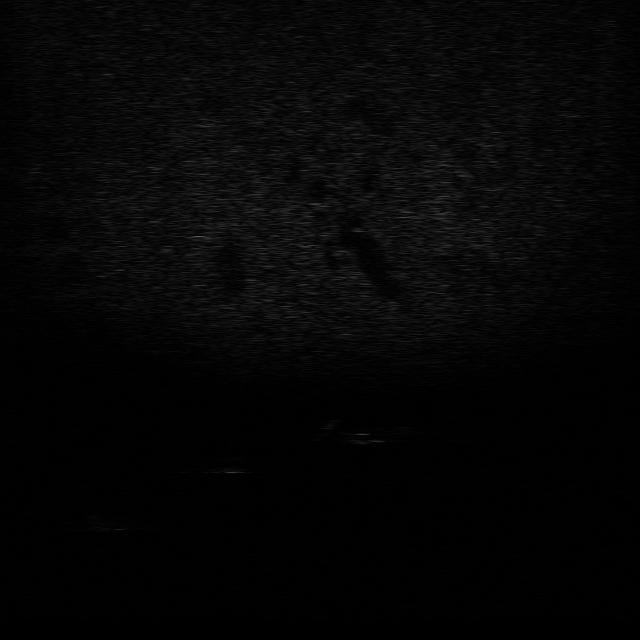ball: (200, 450, 252, 478)
circle cage: (56, 505, 135, 535)
human body: (311, 412, 415, 448)
